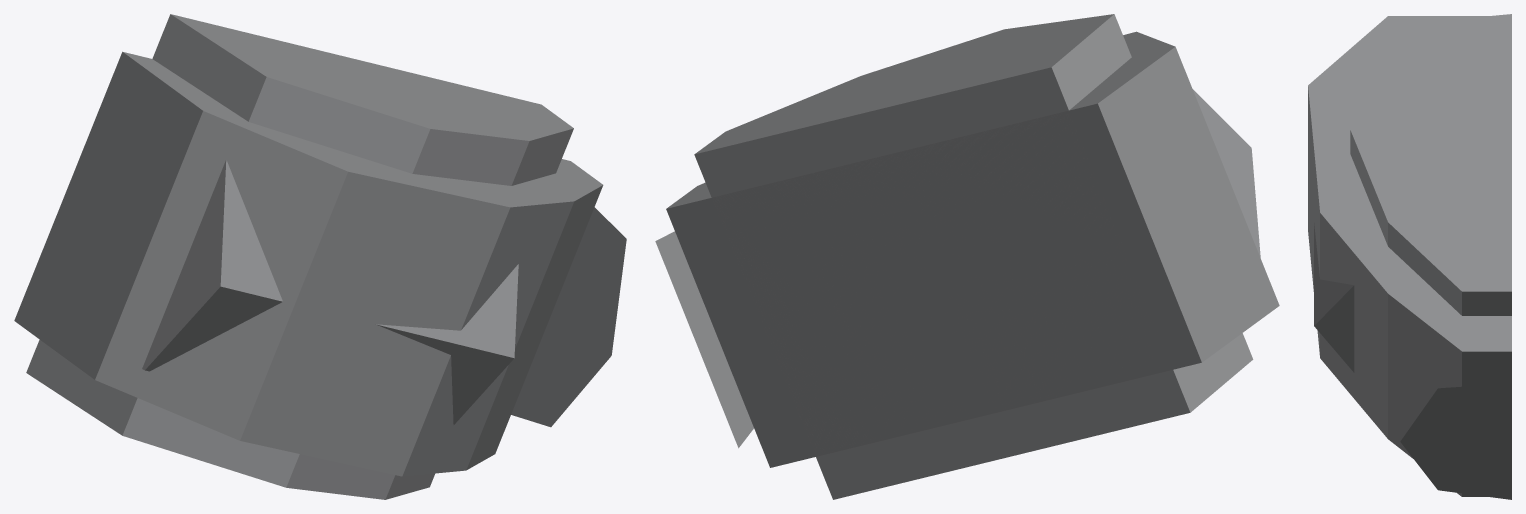
The picture shows the model from 3 angles, left to right: view 1: azimuth 30°, elevation 25°; view 2: azimuth 150°, elevation 25°; view 3: azimuth 270°, elevation 25°; orthographic projection. The views are drawn at different scales.
Bounding box in the file's own units: 0.3328 × 0.2827 × 0.135.
